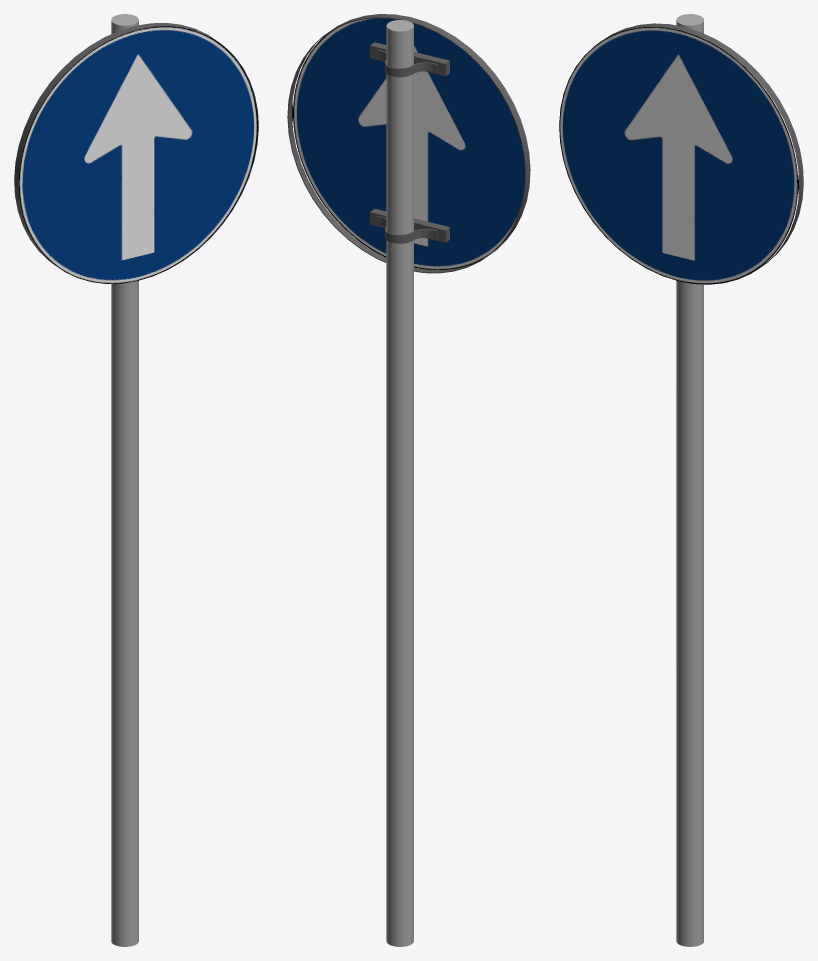
The model's file is T_forward.dae.
The picture shows the model from 3 angles, left to right: view 1: azimuth 30°, elevation 25°; view 2: azimuth 150°, elevation 25°; view 3: azimuth 330°, elevation 25°; orthographic projection.
Visible parts, largest first — view 1: Sign.213, Pole.002; view 2: Sign.213, Pole.002; view 3: Sign.213, Pole.002.
Part boxes in pixels (x1=…): Sign.213: x1=14, y1=23, x2=258, y2=283; Pole.002: x1=111, y1=14, x2=138, y2=946; Sign.213: x1=287, y1=14, x2=530, y2=273; Pole.002: x1=386, y1=20, x2=413, y2=946; Sign.213: x1=559, y1=23, x2=803, y2=284; Pole.002: x1=676, y1=14, x2=703, y2=946.
Bounding box in the file's own units: 0.6 × 0.0869 × 2.2.
Materials: 3 (1 with a texture image).
